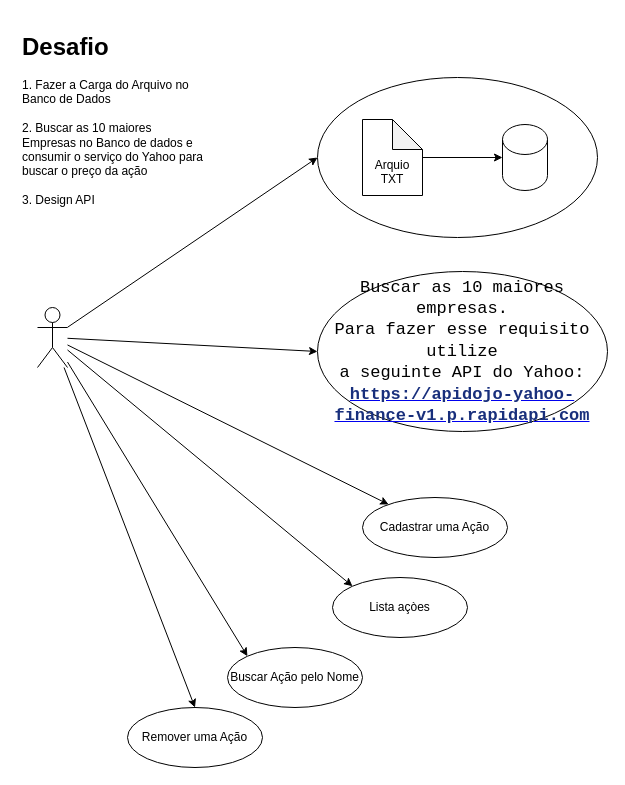
Some shapes in this 625 by 785 pixel diagram are drawn without their labels. Each missing label, with the box of its shape:
Actor: (36, 306, 68, 368)
DB: (502, 124, 548, 190)
